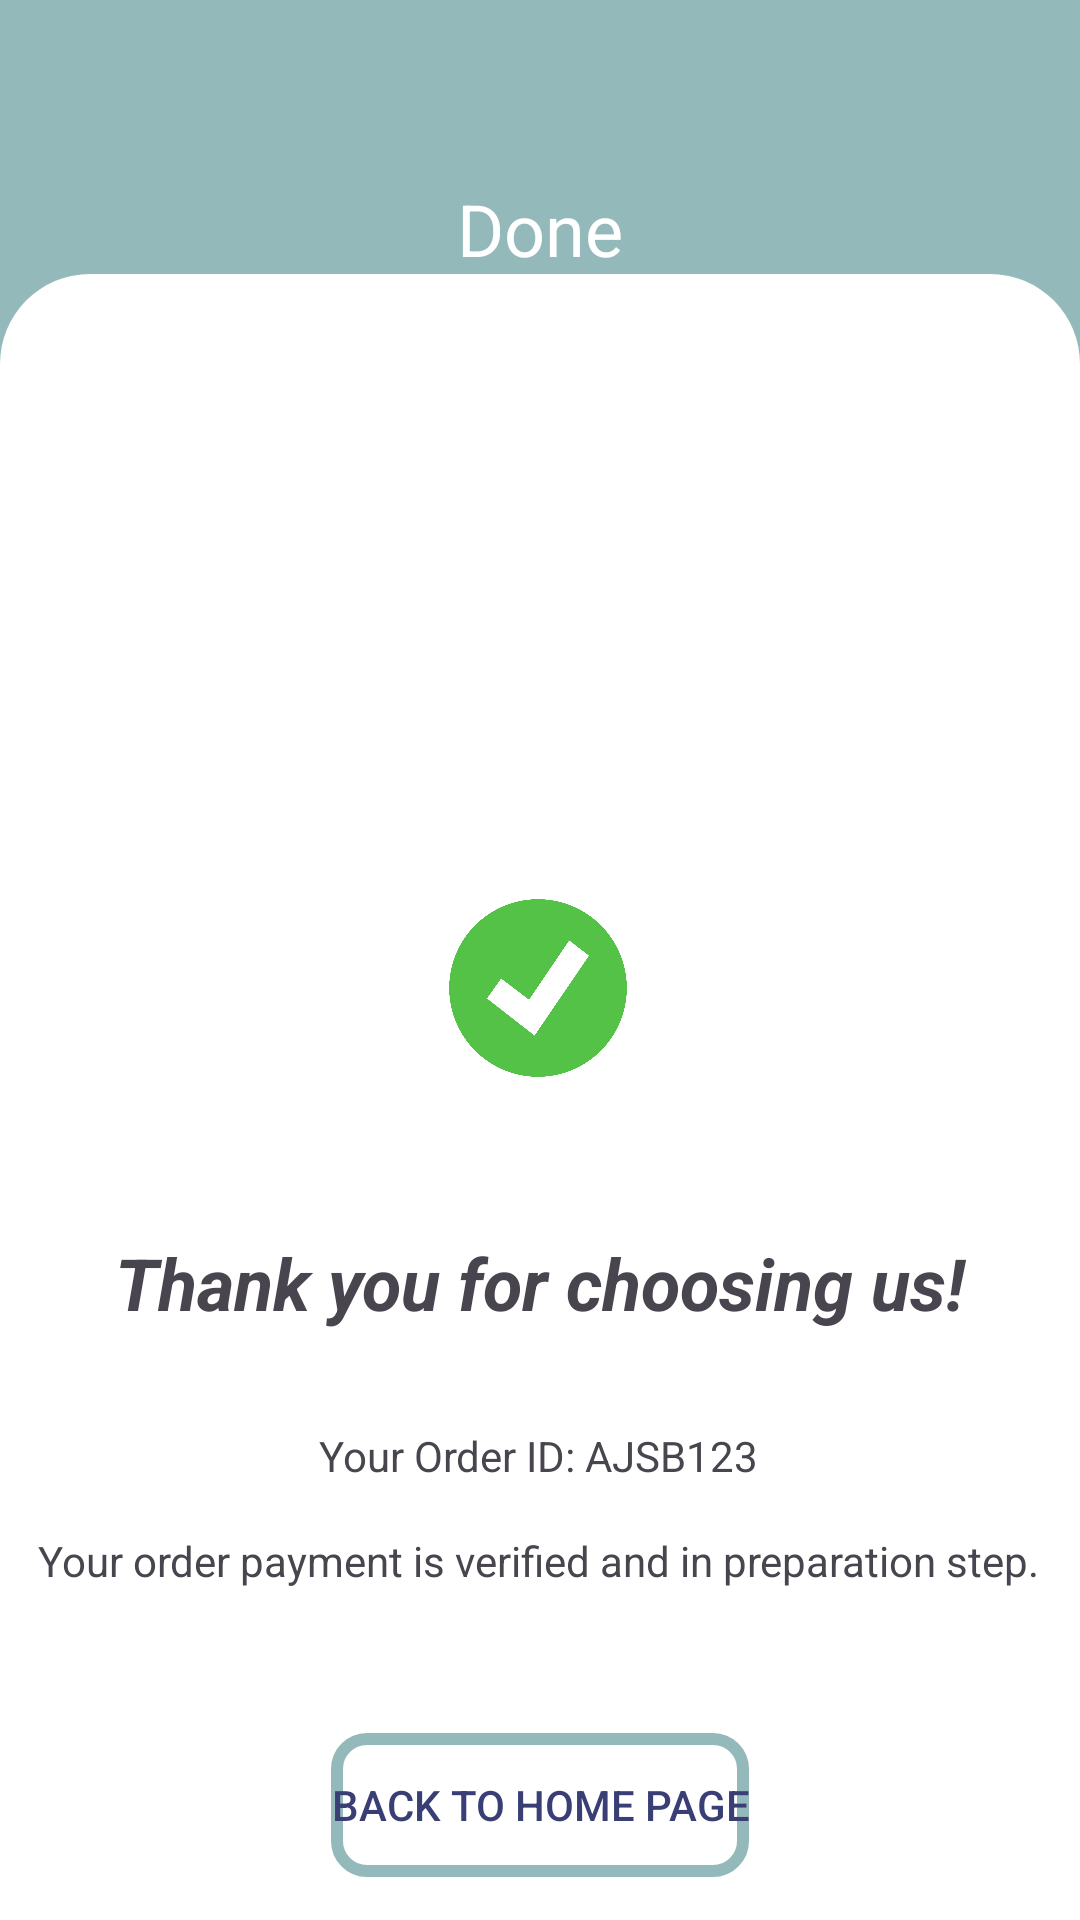

Screen size 1080w x 1920h. Icon name, then its box in pixels as (x1, y1, x2, y2):
Green check icon: (449, 899, 627, 1077)
